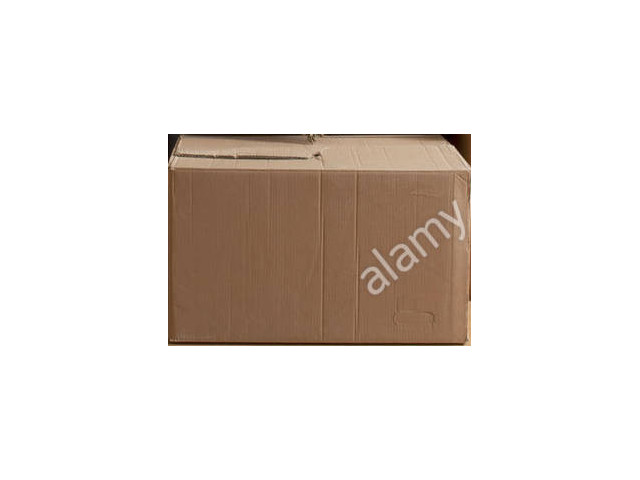cardboard: (170, 133, 467, 344)
